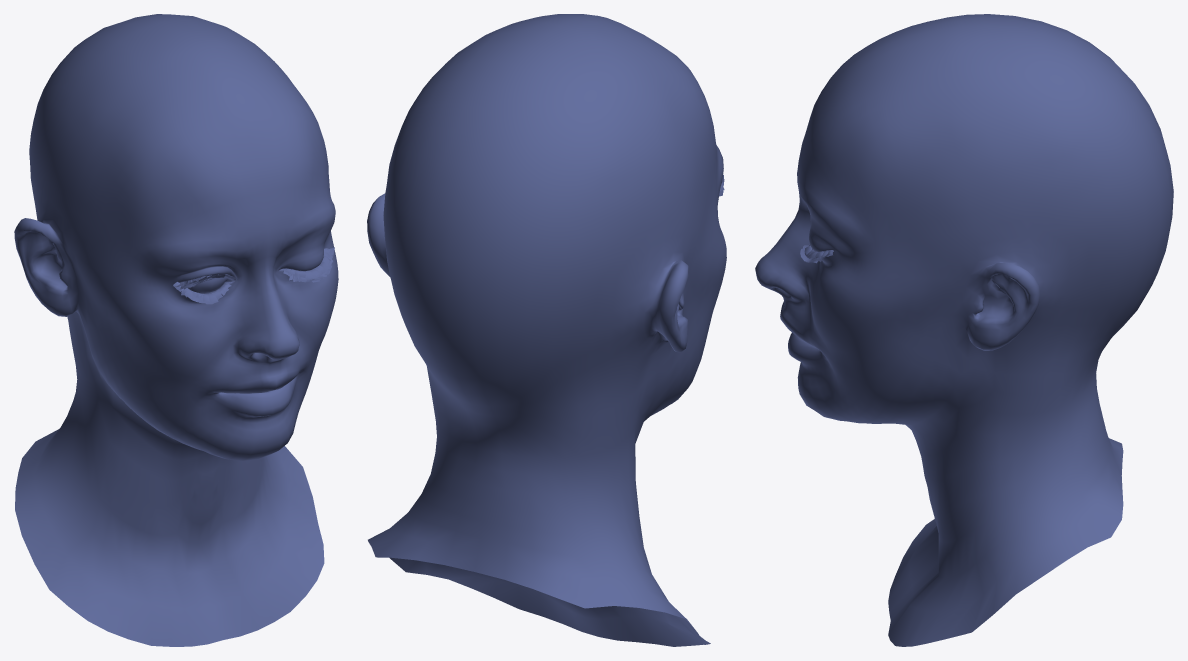
File: eyeBlinkLeft.fbx
The picture shows the model from 3 angles, left to right: view 1: azimuth 30°, elevation 25°; view 2: azimuth 150°, elevation 25°; view 3: azimuth 270°, elevation 25°; orthographic projection. The views are drawn at different scales.
Parts seen in each view (by area): view 1: eyeBlinkLeft; view 2: eyeBlinkLeft; view 3: eyeBlinkLeft.
Part boxes in pixels (x1,y1,x2,y2): eyeBlinkLeft: (14,14,338,646); eyeBlinkLeft: (367,14,726,646); eyeBlinkLeft: (755,14,1173,646).
Bounding box in the file's own units: 18.81 × 36.75 × 23.46.
